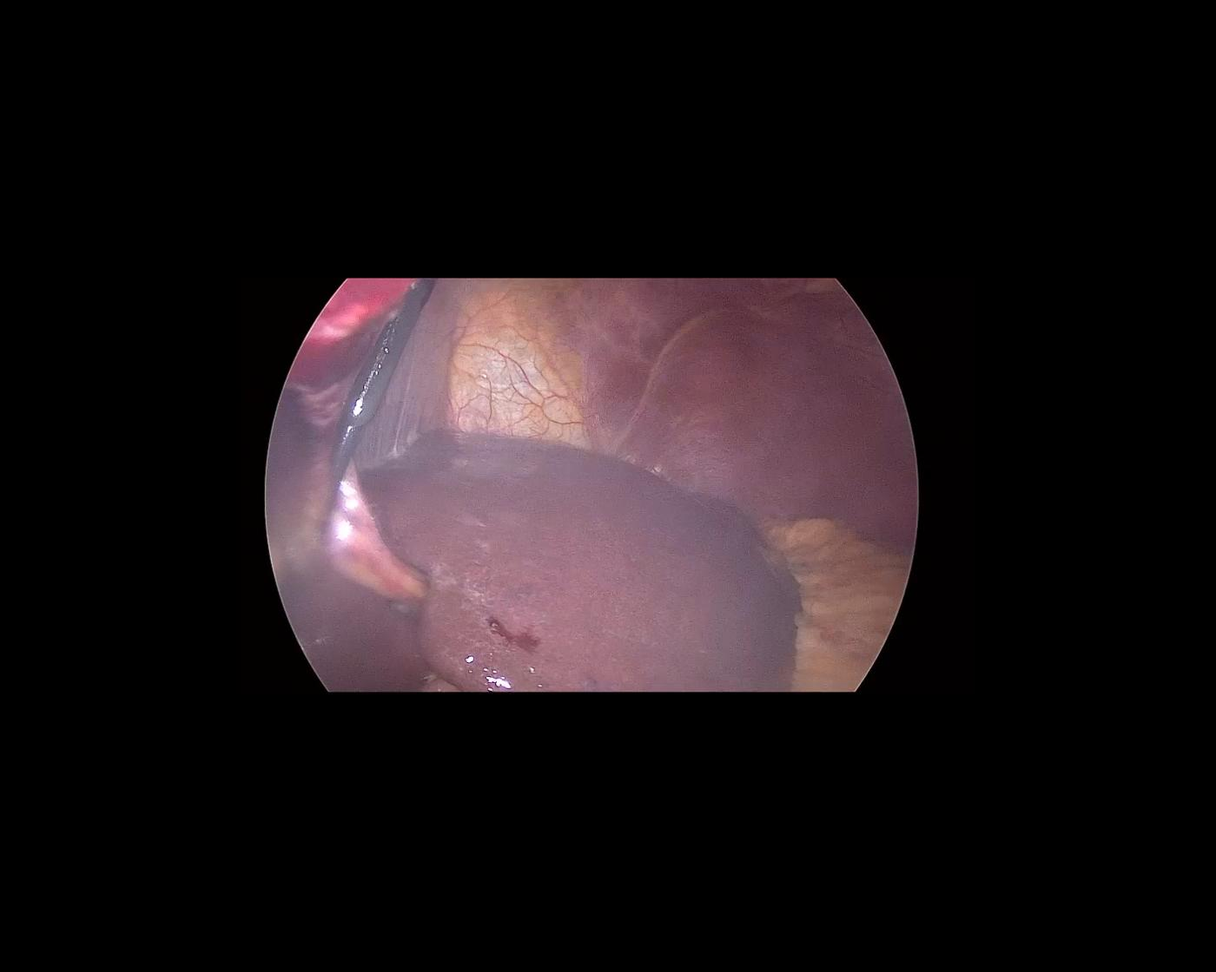Liver: (359, 429, 794, 693)
